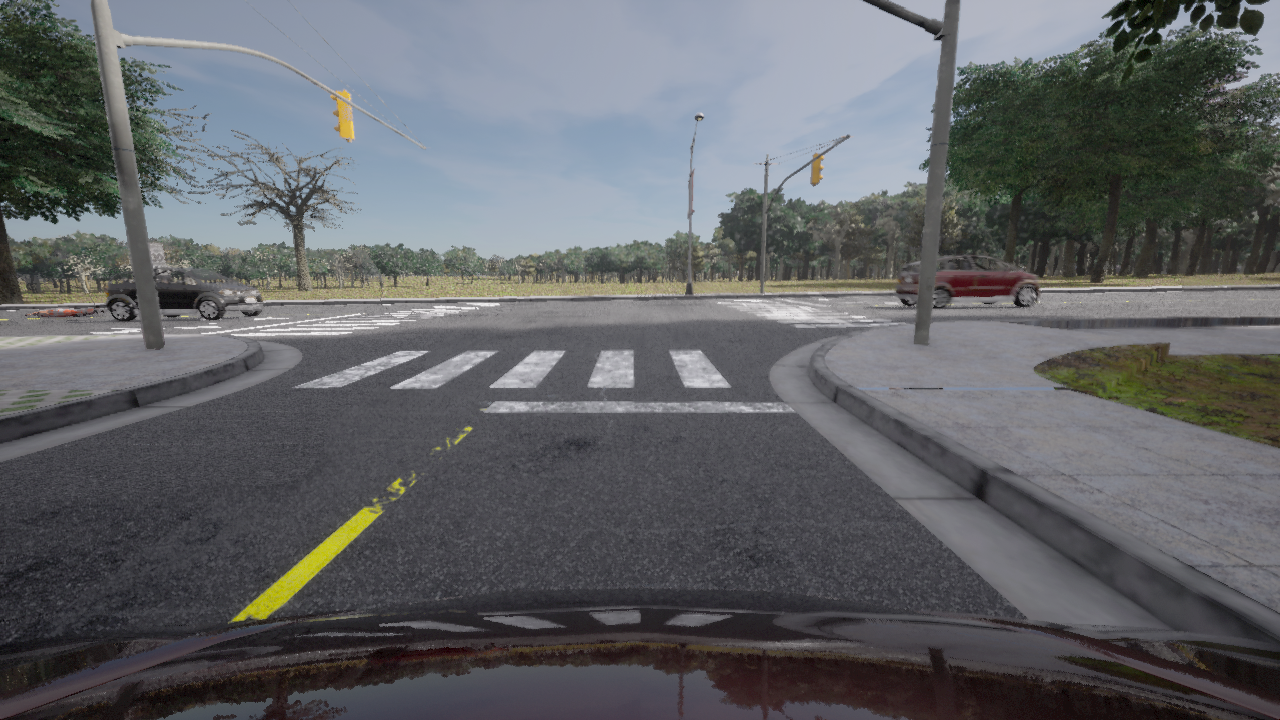cyclist: (0, 588, 1279, 719), (104, 267, 263, 321), (894, 255, 1039, 309)
pedestrian: (26, 308, 108, 317)
